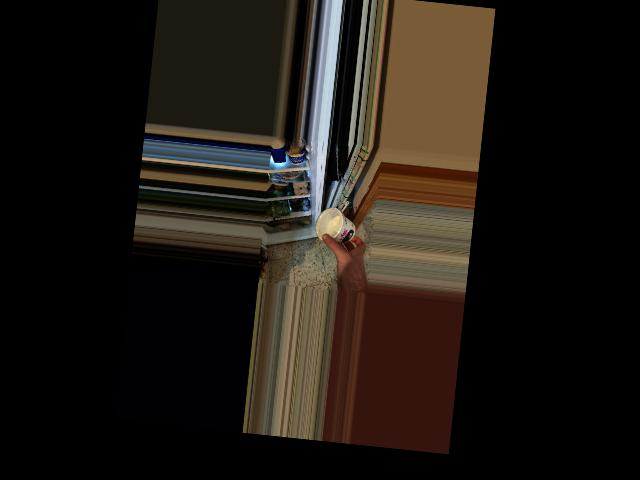cotage: (314, 201, 359, 248)
